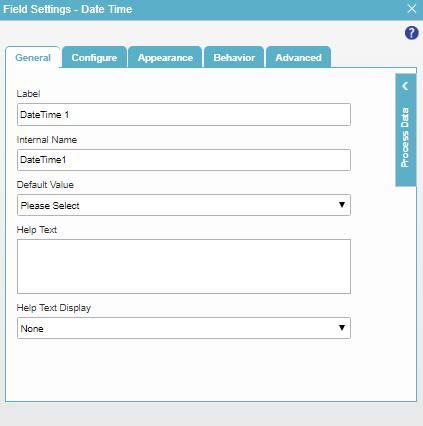button: (128, 46, 203, 68), (267, 47, 333, 69), (62, 47, 127, 69), (204, 46, 266, 69), (6, 47, 62, 67)
dropdown: (18, 195, 352, 217), (18, 318, 352, 340)
icon: (404, 25, 422, 44), (406, 3, 422, 19)
input: (18, 104, 352, 127), (19, 150, 352, 172)
label: (15, 302, 94, 316), (15, 180, 76, 193), (15, 136, 82, 146), (16, 226, 62, 236), (14, 89, 45, 101)
